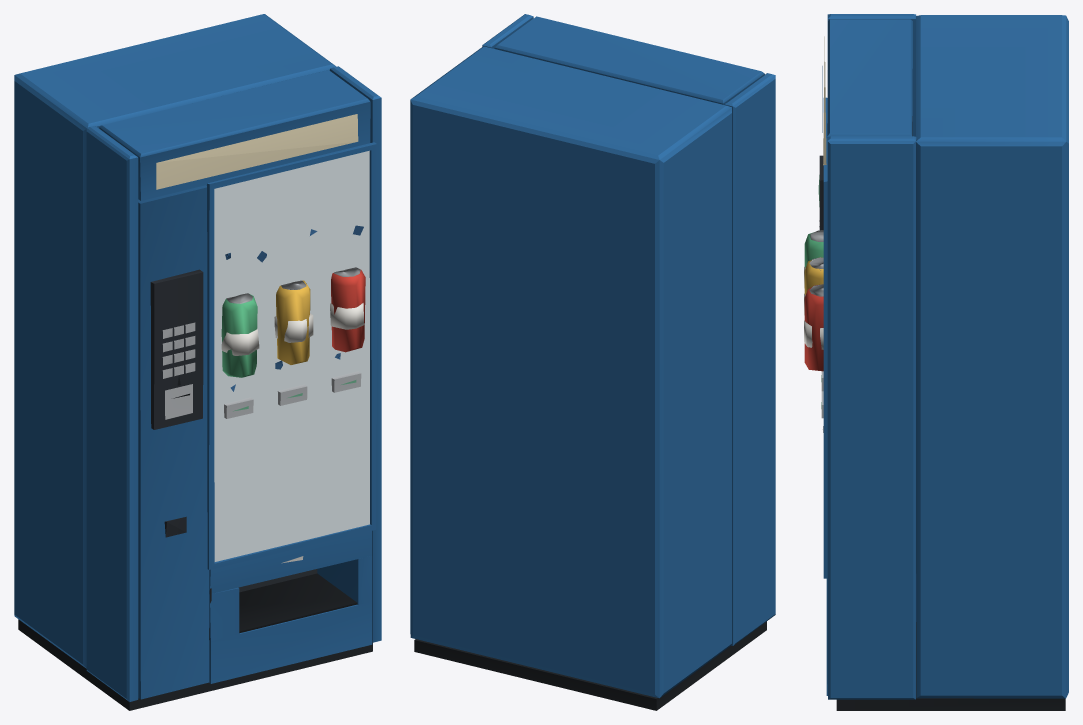
The model's file is vendingDrink.far.glb.
3 views of the same model, side by side, from view 1: azimuth 30°, elevation 25°; view 2: azimuth 150°, elevation 25°; view 3: azimuth 270°, elevation 25° (orthographic). The views are drawn at different scales.
Parts seen in each view (by area): view 1: vendingDrink_far; view 2: vendingDrink_far; view 3: vendingDrink_far.
Boxes of the visible parts, <box> form: vendingDrink_far: <box>14,14,381,710</box>; vendingDrink_far: <box>410,14,775,710</box>; vendingDrink_far: <box>804,14,1068,710</box>.
Bounding box in the file's own units: 0.9 × 1.88 × 0.7865.
